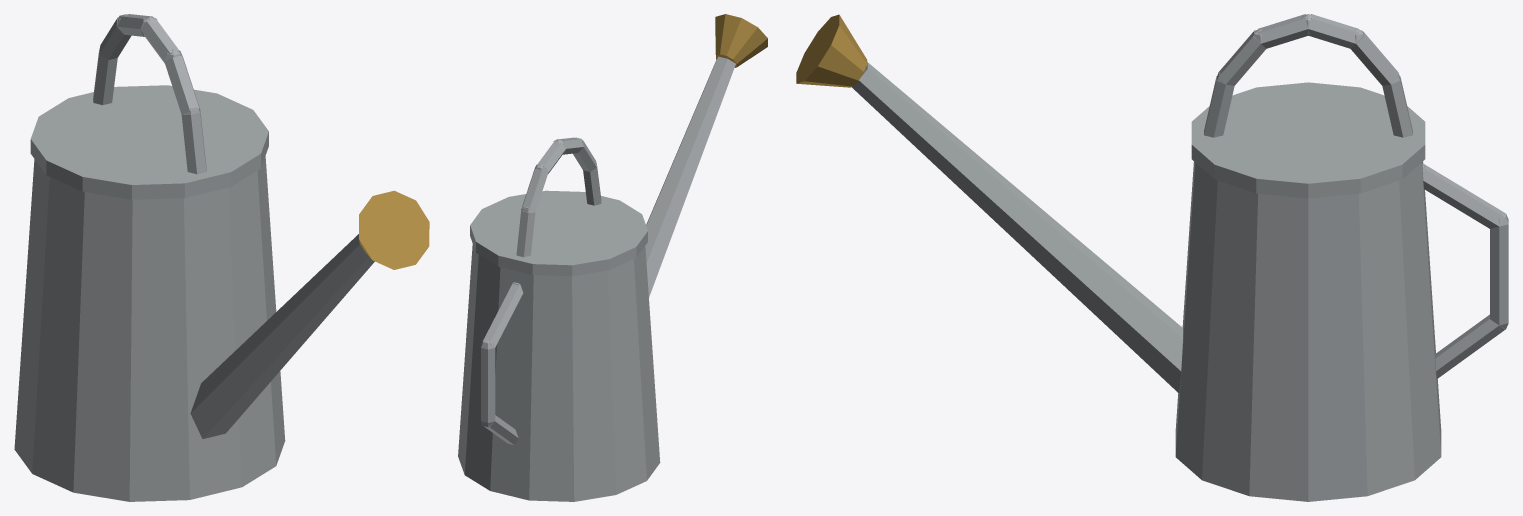
Rendered from watering_can.glb.
3 renders of one model, left to right at view 1: azimuth 30°, elevation 25°; view 2: azimuth 150°, elevation 25°; view 3: azimuth 270°, elevation 25°, orthographic. The views are drawn at different scales.
Parts seen in each view (by area): view 1: WateringCan; view 2: WateringCan; view 3: WateringCan.
Part boxes in pixels (<box>): WateringCan: <box>14,14,429,501</box>; WateringCan: <box>458,14,767,501</box>; WateringCan: <box>796,14,1508,501</box>.
Bounding box in the file's own units: 0.2 × 0.348 × 0.5228.
